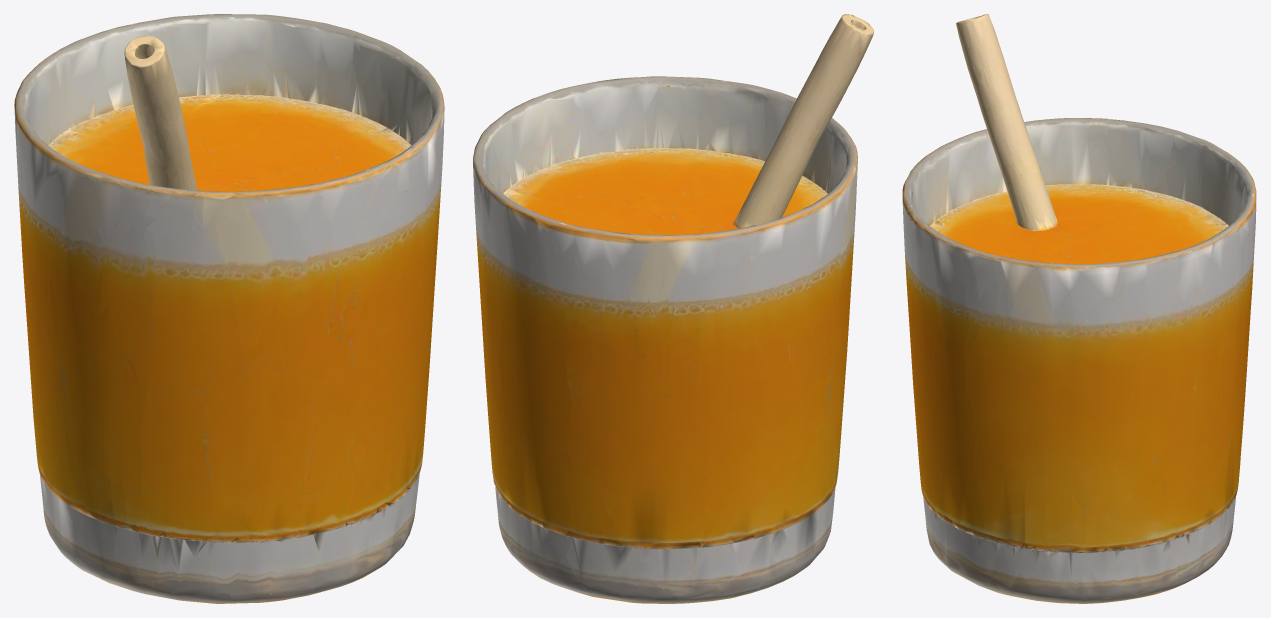
Rendered from upm_mv3pqg1y1z8.glb.
3 renders of one model, left to right at view 1: azimuth 30°, elevation 25°; view 2: azimuth 150°, elevation 25°; view 3: azimuth 270°, elevation 25°, orthographic. The views are drawn at different scales.
Bounding box in the file's own units: 1.29 × 1.9 × 1.29.
Materials: 1 (1 with a texture image).
